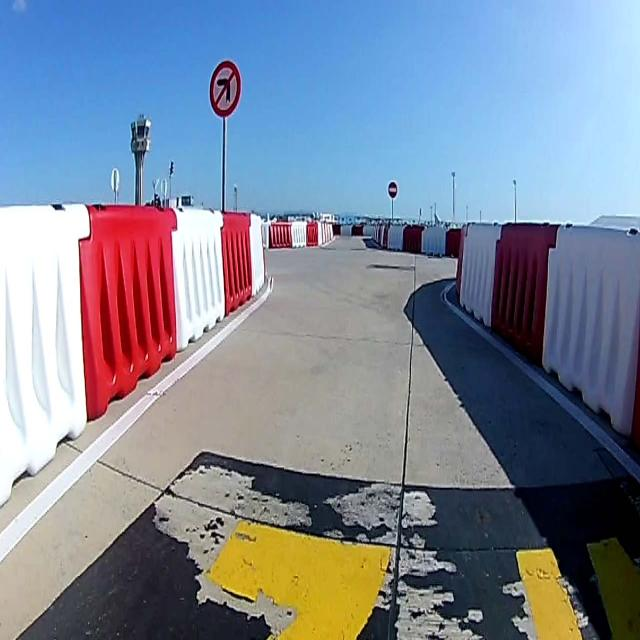soladonulmez: (210, 62, 240, 115)
